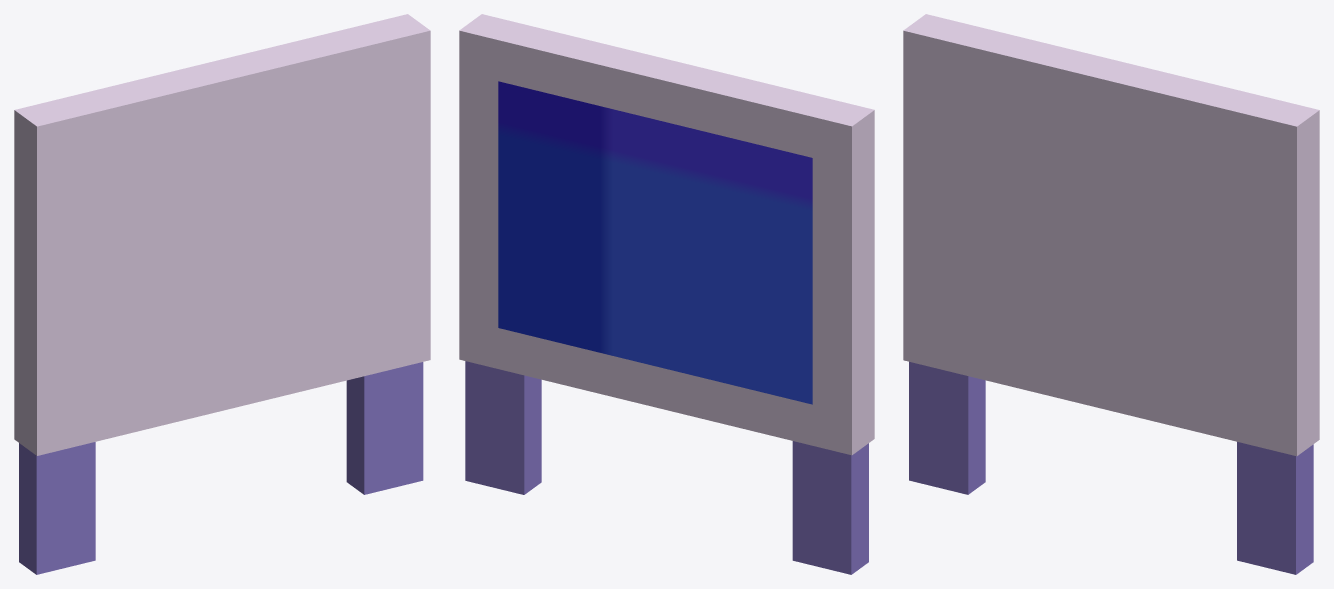
Rendered from sign_yellow.fbx.
3 renders of one model, left to right at view 1: azimuth 30°, elevation 25°; view 2: azimuth 150°, elevation 25°; view 3: azimuth 330°, elevation 25°, orthographic.
Parts seen in each view (by area): view 1: sign_yellow; view 2: sign_yellow; view 3: sign_yellow.
Part boxes in pixels (x1,y1,x2,y2): sign_yellow: (14,14,430,574); sign_yellow: (459,14,874,574); sign_yellow: (903,14,1319,574).
Bounding box in the file's own units: 100 × 10 × 110.
